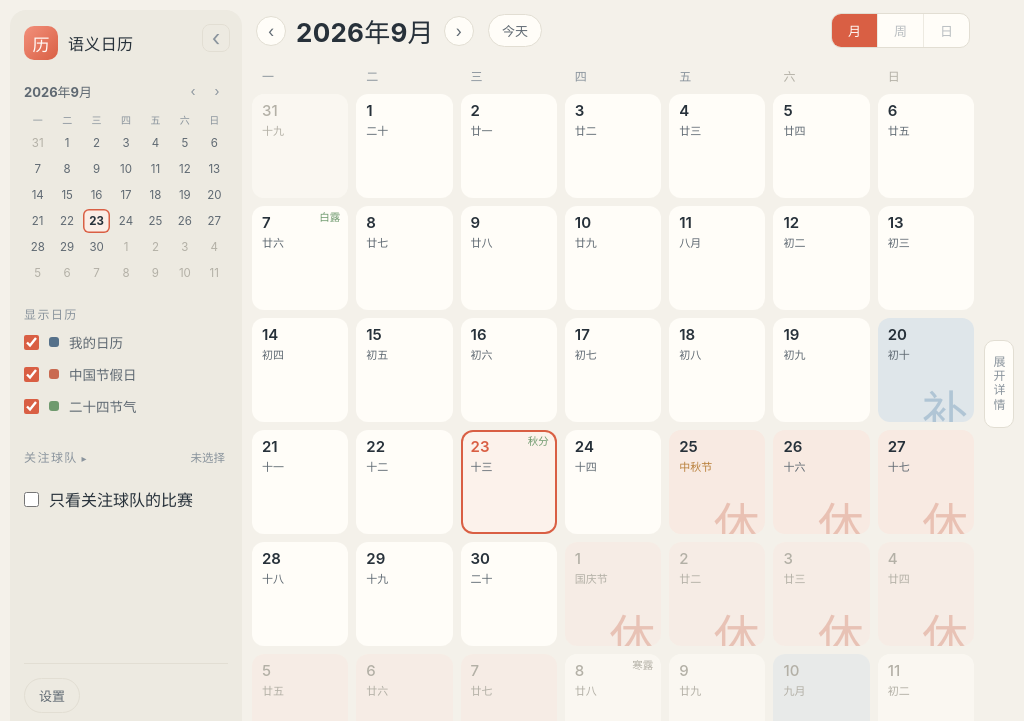
Test: 月份导航与日期选择（SC-005 / CAL-002 / CAL-003） › 上一月 / 下一月切换年月与网格日期
This screenshot has width=1024, height=721.
Click the button named "下一月" at (459, 30), box [444,16,474,46]
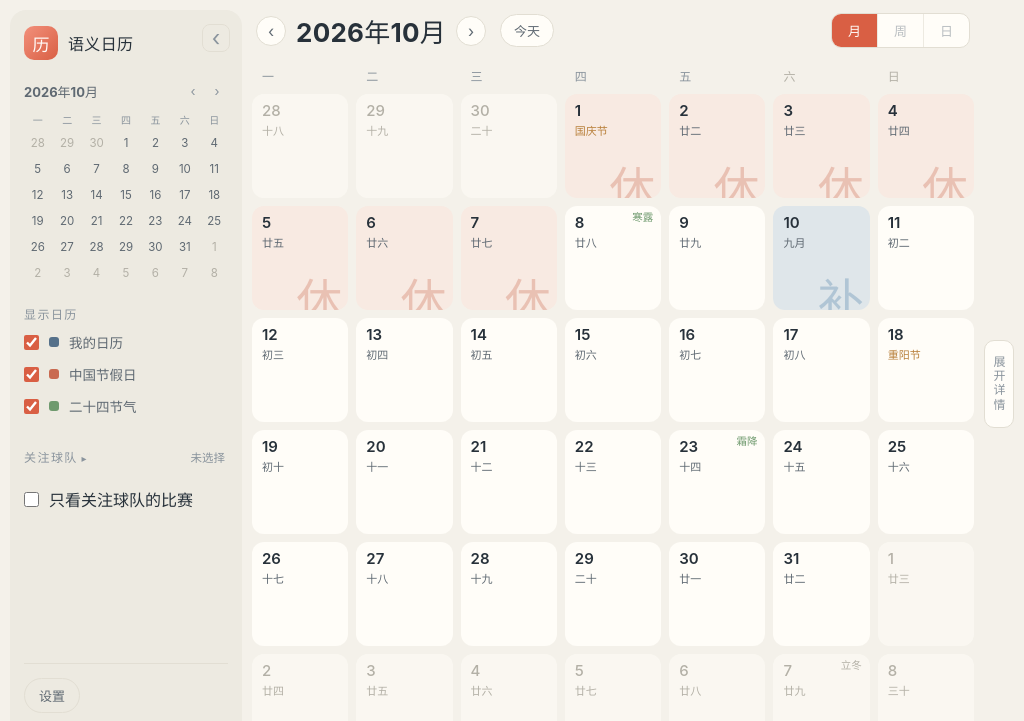
Expected: the cell "28 十八" is shown, [252,94,348,198]
Result: the heading "2026年10月" is shown at [296,12,446,49]
Click the button named "上一月" at (271, 30), box [256,16,286,46]
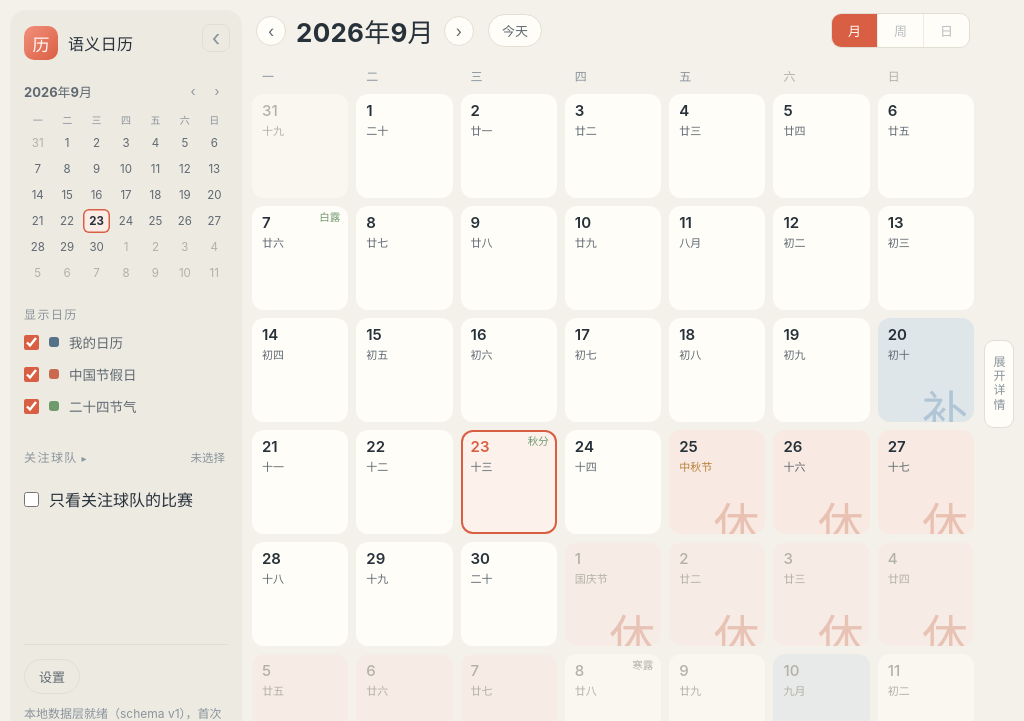
Result: the heading "2026年9月" is shown at [296,12,434,49]
